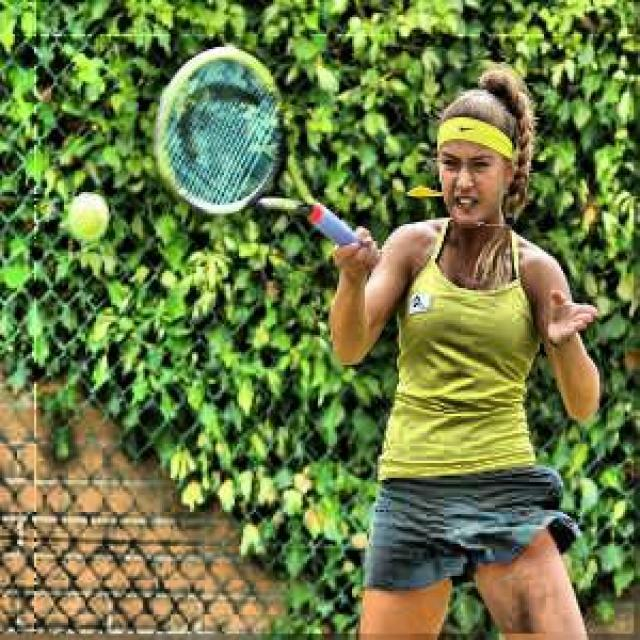tennis-ball: (67, 192, 107, 241)
